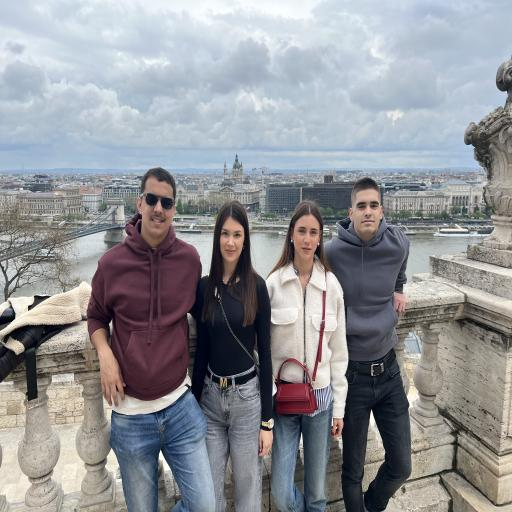masa: (293, 209, 321, 259)
